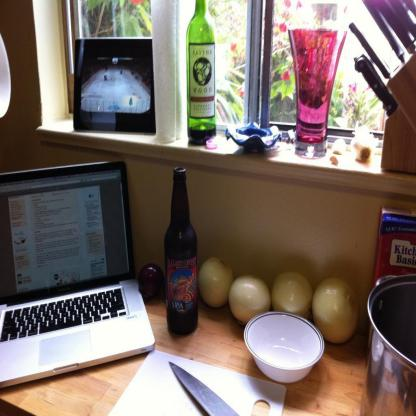board: (0, 164, 153, 384), (164, 164, 198, 335), (187, 0, 216, 140), (170, 360, 242, 416), (353, 55, 398, 117), (363, 0, 406, 63), (348, 22, 391, 78), (375, 0, 416, 53), (389, 0, 416, 38), (405, 0, 416, 15)
